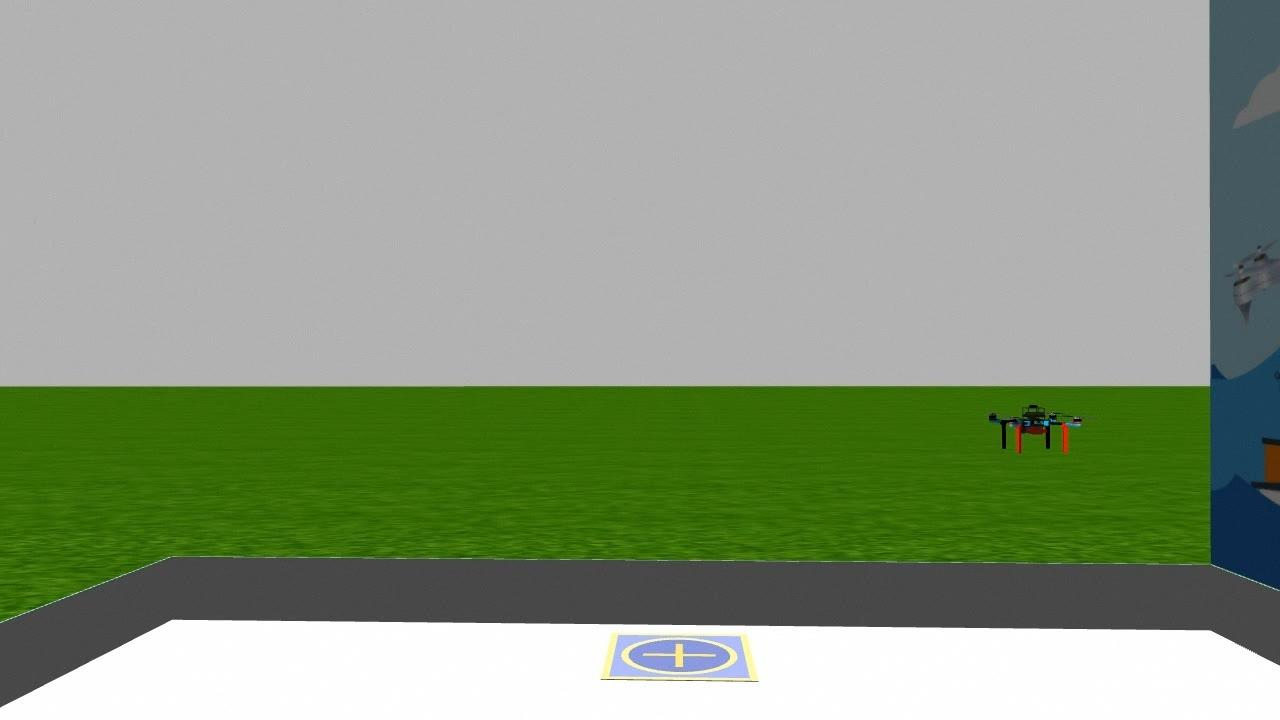UAV: (968, 390, 1076, 462)
